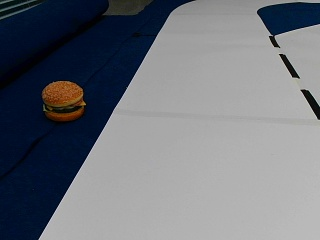burger: (40, 79, 85, 120)
